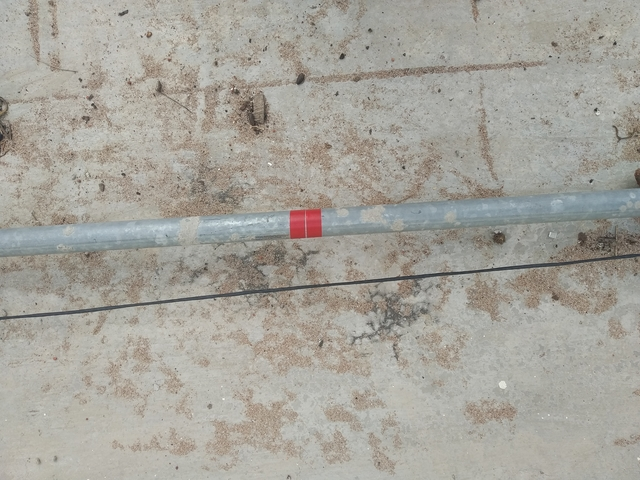rust: (287, 205, 325, 243)
